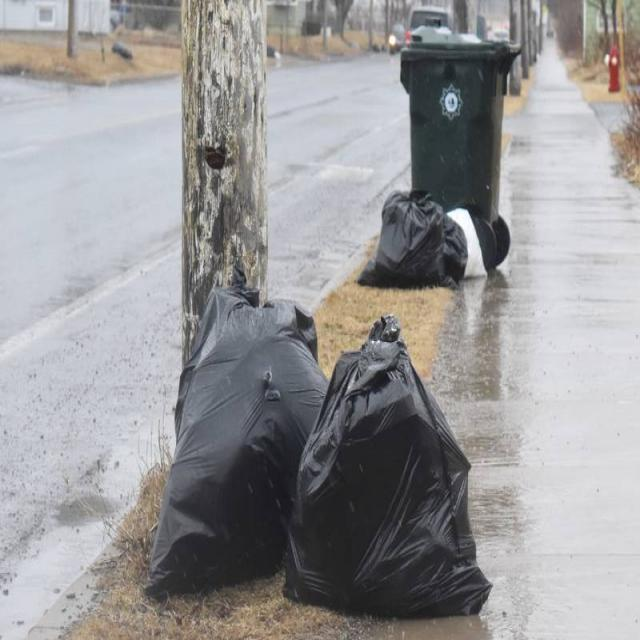plastic_bag: (298, 338, 478, 604), (153, 335, 323, 588), (374, 201, 448, 286)
